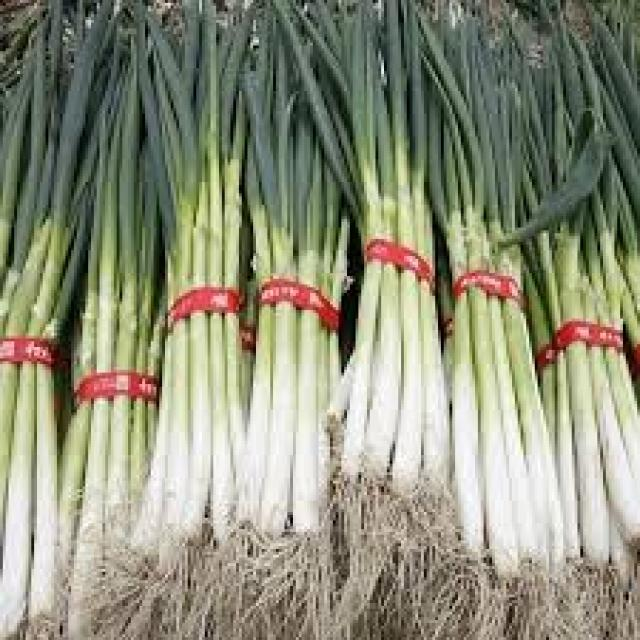spring_onion: (117, 0, 253, 586), (230, 0, 347, 566), (447, 0, 558, 572), (529, 0, 637, 572), (330, 0, 444, 512)
